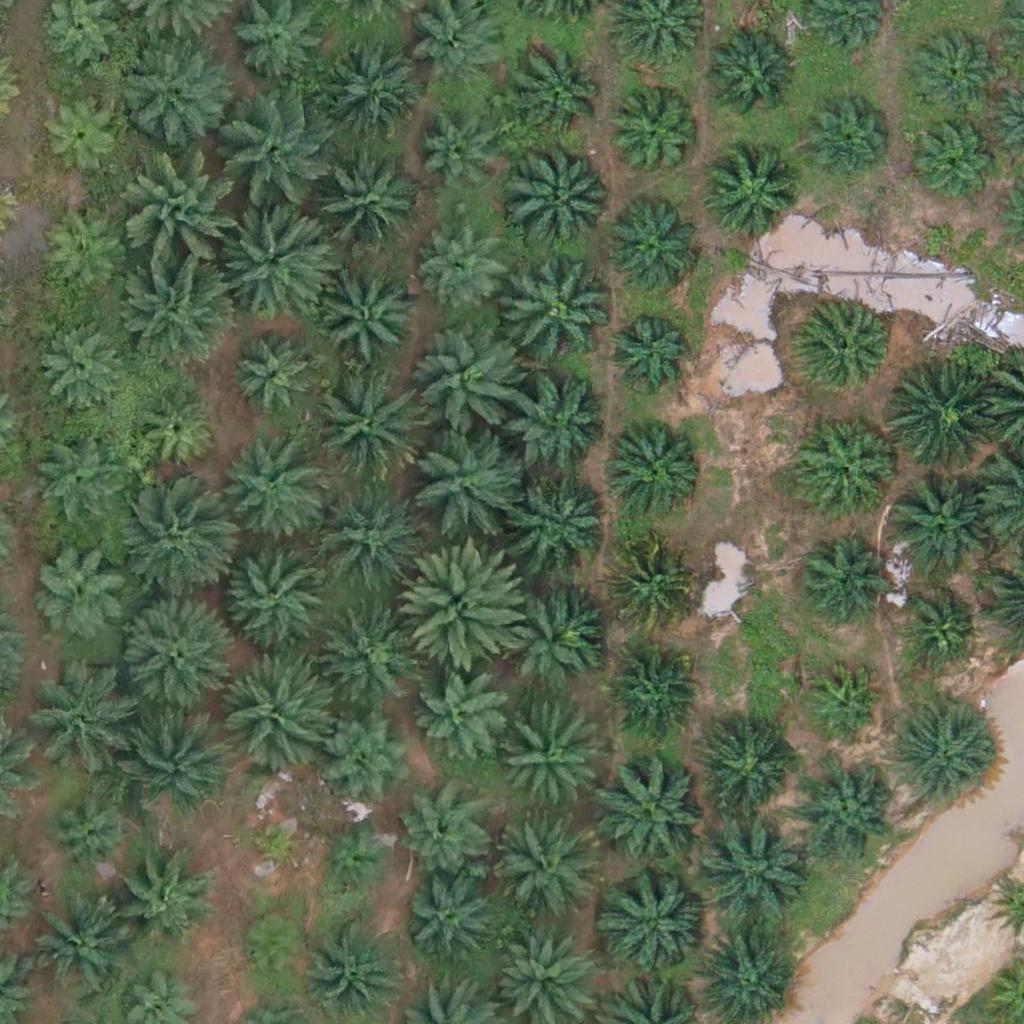Kelapa_Sawit: (404, 544, 529, 670), (406, 422, 519, 536), (307, 151, 420, 265), (695, 810, 808, 923), (596, 754, 709, 867), (600, 865, 713, 978), (308, 370, 421, 483), (312, 482, 425, 595), (219, 537, 332, 650), (116, 598, 229, 711), (885, 364, 998, 477), (500, 253, 613, 366), (224, 97, 337, 210), (123, 255, 236, 368), (413, 328, 526, 441), (116, 700, 228, 814), (506, 138, 618, 252), (129, 159, 241, 273), (212, 438, 324, 551), (217, 655, 329, 768), (114, 489, 226, 602), (219, 202, 331, 315), (116, 33, 228, 146), (886, 473, 986, 574), (606, 415, 706, 516), (513, 474, 613, 575), (499, 711, 599, 812), (494, 823, 594, 924), (316, 603, 416, 704), (318, 704, 418, 805), (110, 852, 210, 953), (24, 901, 124, 1002), (24, 673, 124, 774), (700, 29, 800, 130), (701, 145, 801, 246), (319, 267, 419, 368), (309, 918, 409, 1019), (894, 708, 994, 808), (797, 416, 897, 516), (800, 761, 900, 861), (508, 381, 608, 481), (498, 581, 598, 681), (31, 539, 131, 639), (795, 301, 895, 401), (603, 201, 703, 301), (512, 45, 612, 145), (320, 45, 420, 145), (794, 533, 882, 621), (705, 728, 793, 816), (605, 539, 693, 627), (398, 791, 486, 879), (131, 388, 219, 476), (45, 790, 133, 878), (612, 95, 700, 183), (604, 308, 692, 396), (231, 333, 319, 421), (34, 89, 122, 177), (39, 212, 127, 300), (401, 878, 488, 967), (31, 438, 118, 527), (608, 647, 695, 735), (416, 671, 503, 759), (803, 97, 890, 185), (913, 114, 1000, 202), (909, 29, 996, 117), (417, 122, 504, 210), (422, 227, 509, 315), (38, 321, 125, 409), (317, 824, 392, 900), (806, 664, 881, 740), (236, 911, 311, 987), (901, 590, 976, 665), (243, 812, 305, 875)
